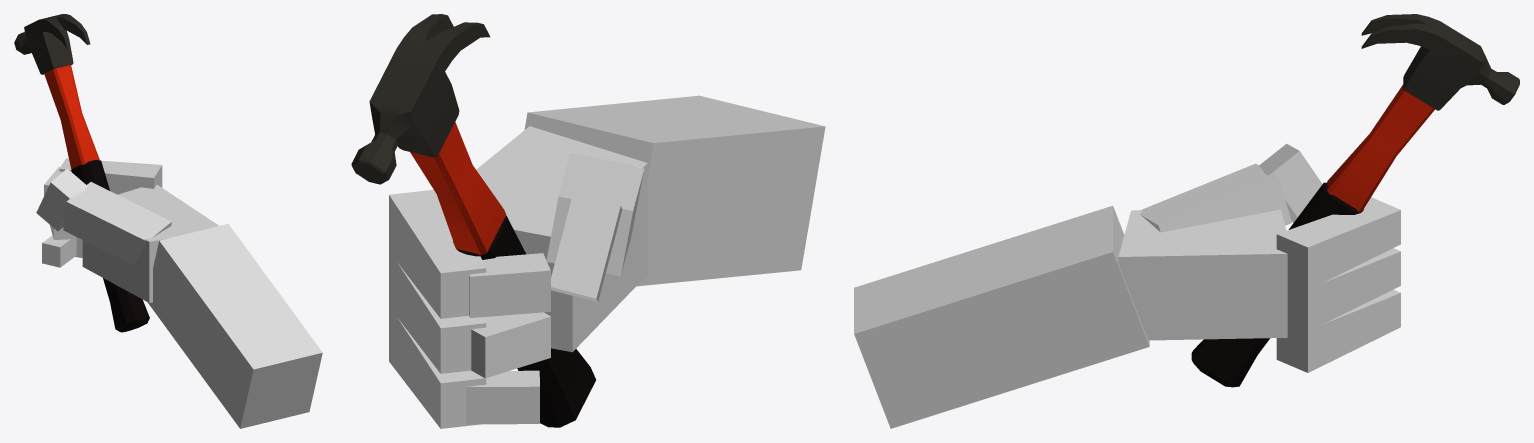
Rendered from playerhand.FBX.
The picture shows the model from 3 angles, left to right: view 1: azimuth 30°, elevation 25°; view 2: azimuth 150°, elevation 25°; view 3: azimuth 270°, elevation 25°; orthographic projection. The views are drawn at different scales.
Visible parts, largest first — view 1: hand; view 2: hand; view 3: hand.
Boxes of the visible parts, bbox=[...] form: hand: bbox=[14, 14, 322, 428]; hand: bbox=[351, 14, 825, 428]; hand: bbox=[854, 14, 1519, 428].
Bounding box in the file's own units: 41 × 87.59 × 144.
